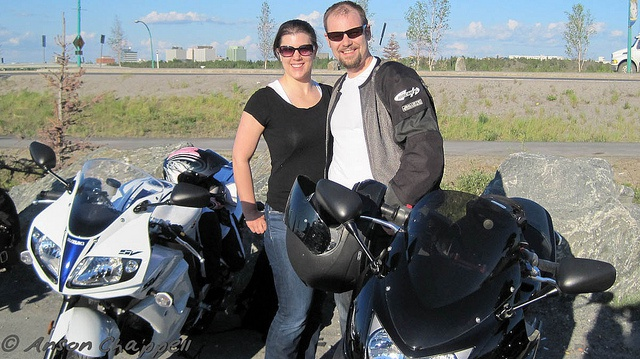non-vehicle: (280, 174, 617, 358), (18, 136, 264, 359), (0, 153, 76, 309)
